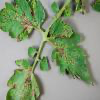Tomato Septoria leaf spot: (48, 31, 93, 88), (0, 0, 47, 44), (5, 49, 41, 100), (48, 20, 75, 42), (38, 57, 52, 74)
